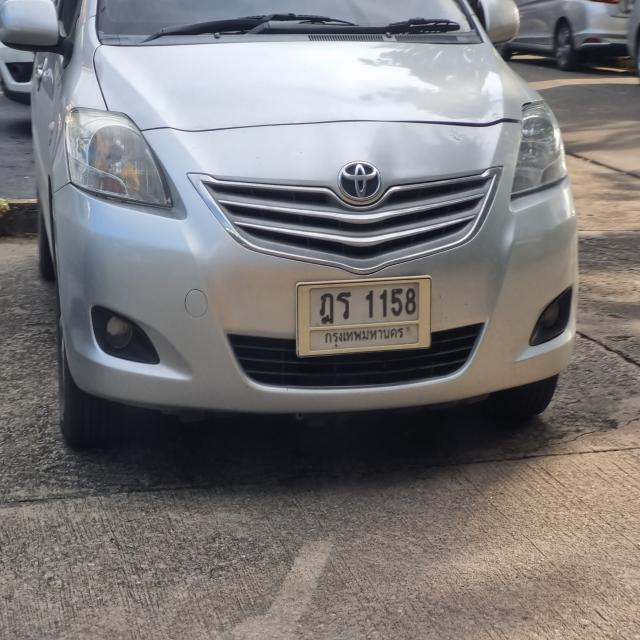license_plate: (295, 272, 437, 363)
